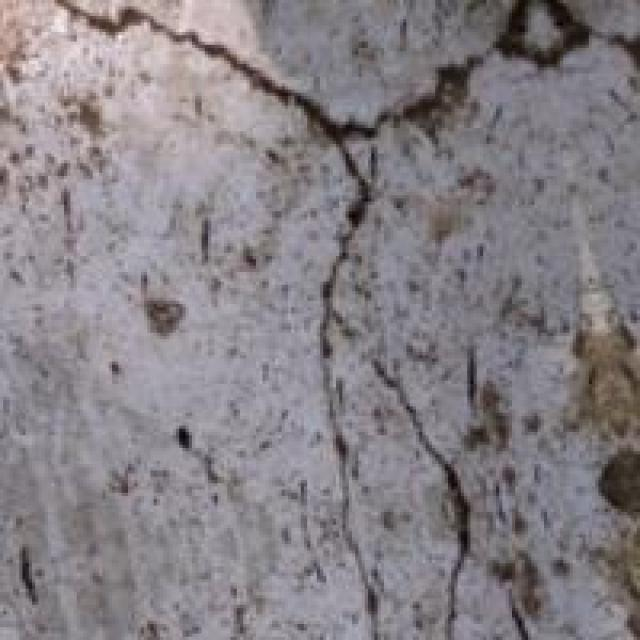Crack: (87, 6, 564, 620)
